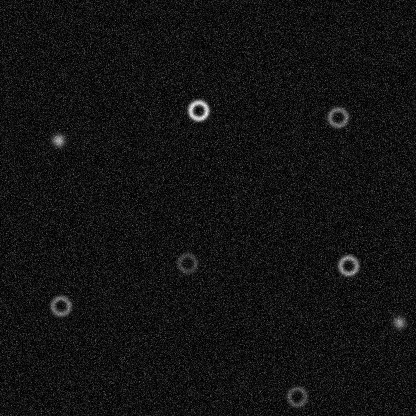Ring: (284, 384, 308, 408), (186, 98, 210, 122), (325, 105, 349, 129), (48, 293, 72, 317), (175, 251, 199, 275), (336, 253, 360, 277)
Spot: (391, 314, 407, 330), (50, 132, 66, 148)
